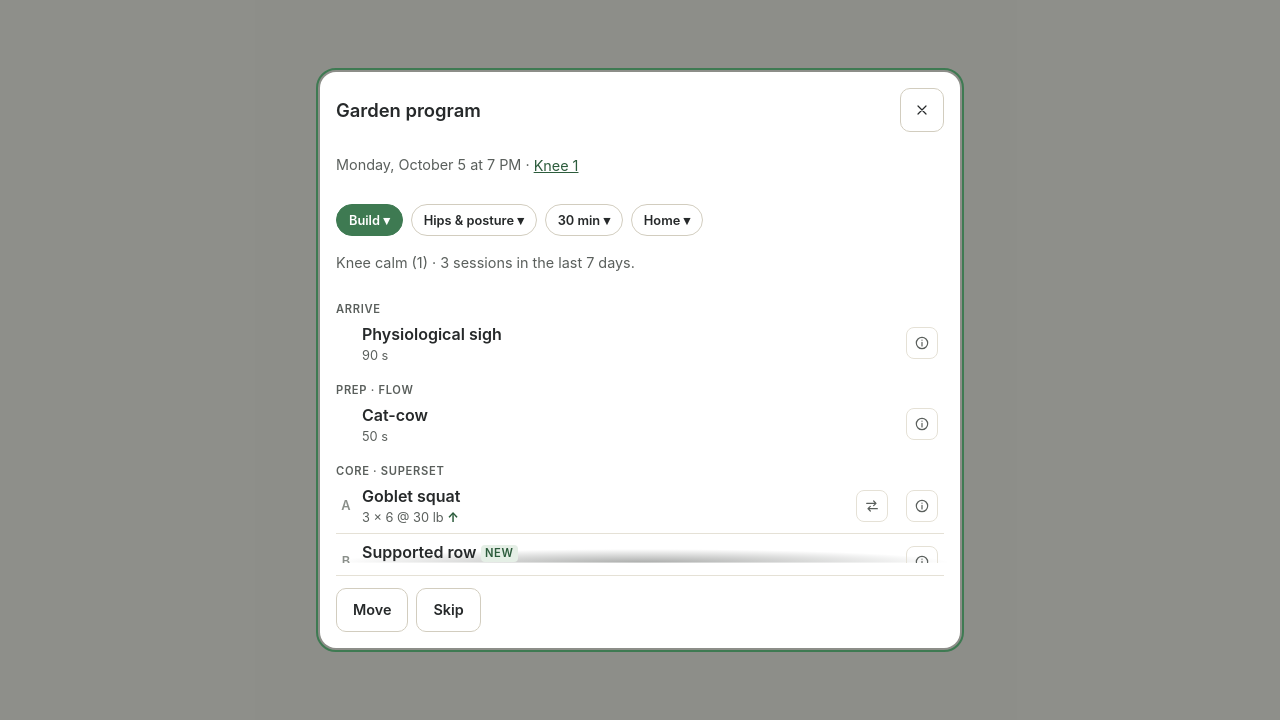
a built session › ⓘ opens the how-to: dose, why, summary, setup, steps, cues, the profile's note, easier/harder, last time — no rating controls yet
Step 1. Click the button named "How to do Goblet squat" → click(922, 506), box [900,484,944,528]
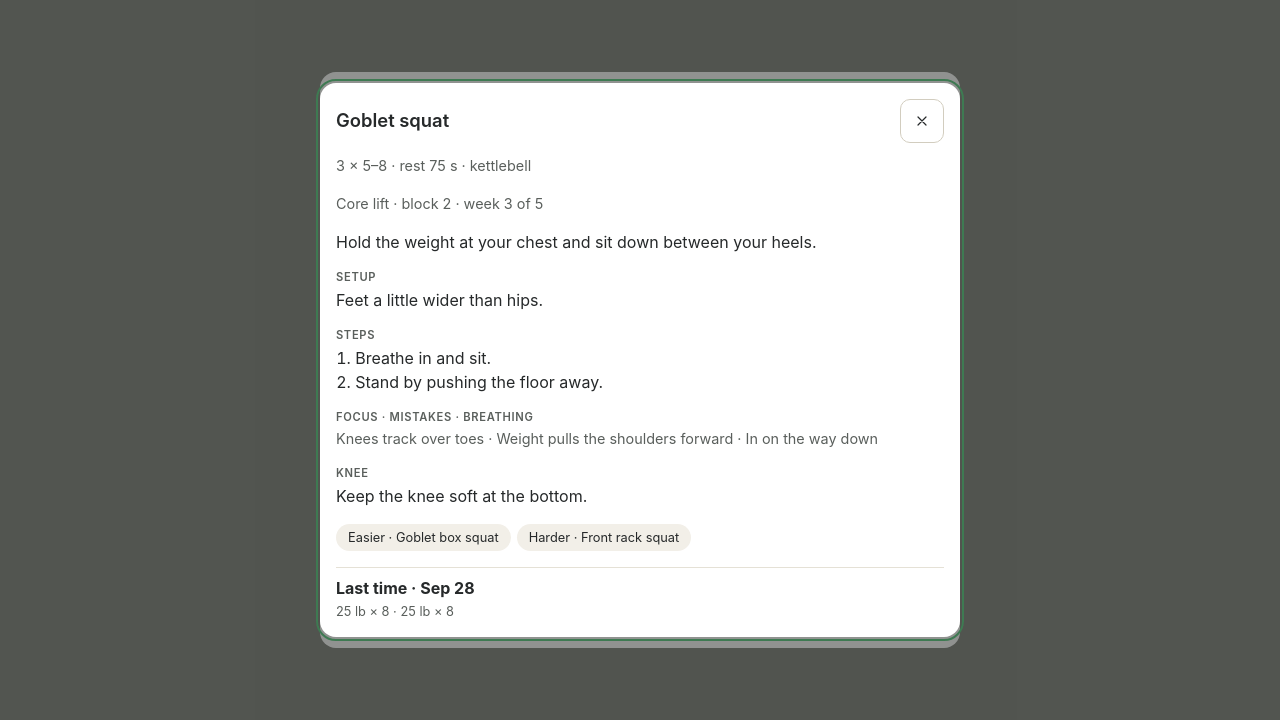
Now the element with class "howto" shows "3 × 5–8 · rest 75 s · kettlebell", box [336,157,531,174]
Now the element with class "howto" shows "Core lift · block 2 · week 3 of 5", box [336,194,543,212]
Now the element with class "howto" shows "Hold the weight at your chest and sit down between your heels.", box [336,232,816,252]
